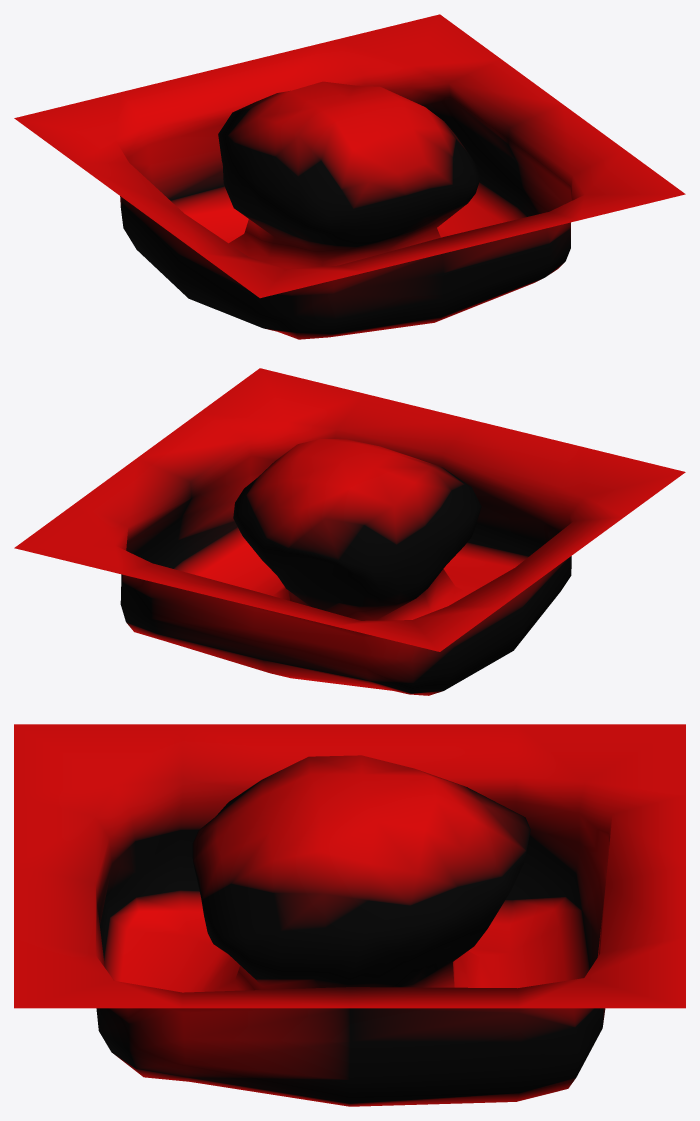
File: GroundBottom01E 2M Background.fbx
3 renders of one model, top to bottom at view 1: azimuth 30°, elevation 25°; view 2: azimuth 150°, elevation 25°; view 3: azimuth 270°, elevation 25°, orthographic. The views are drawn at different scales.
Visible parts, largest first — view 1: GroundBottom01E 2M Background; view 2: GroundBottom01E 2M Background; view 3: GroundBottom01E 2M Background.
Part boxes in pixels (x1,y1,x2,y2): GroundBottom01E 2M Background: (14,14,685,339); GroundBottom01E 2M Background: (14,368,685,695); GroundBottom01E 2M Background: (14,724,685,1106).
Size of the model in its own units: 4 by 1.61 by 4.
